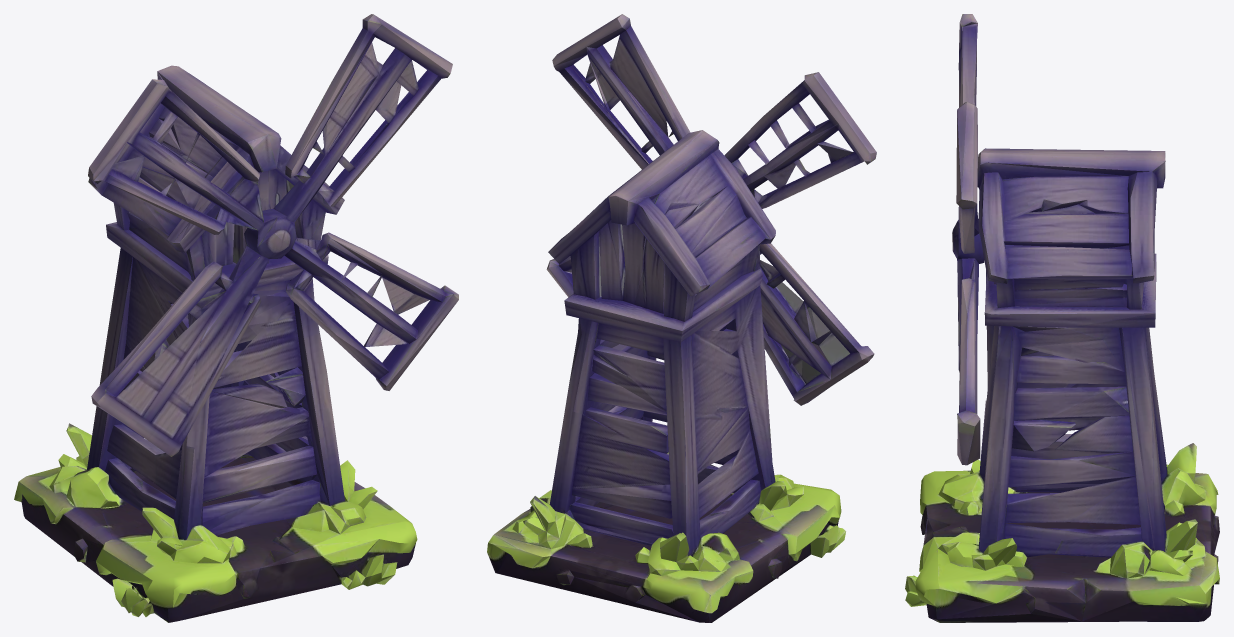
Rendered from windmill.glb.
3 renders of one model, left to right at view 1: azimuth 30°, elevation 25°; view 2: azimuth 150°, elevation 25°; view 3: azimuth 270°, elevation 25°, orthographic. The views are drawn at different scales.
Size of the model in its own units: 1.34 by 1.9 by 1.06.
1 material, 1 textured.
